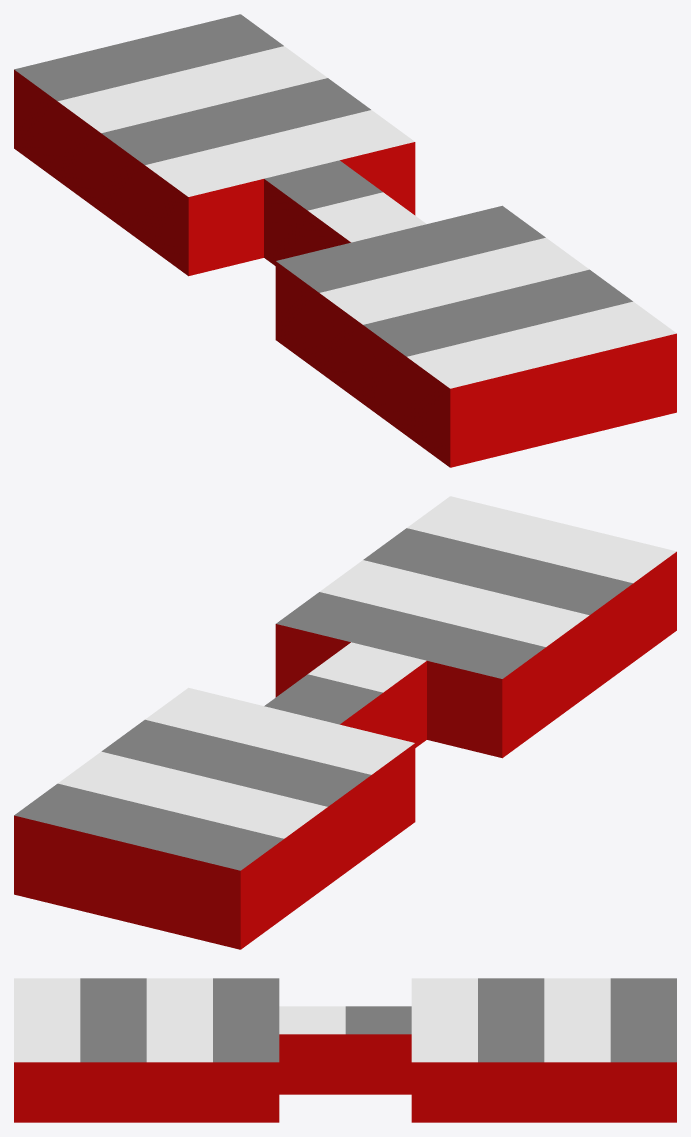
The model's file is Track_Hole_LR.fbx.
3 views of the same model, one above another, from view 1: azimuth 30°, elevation 25°; view 2: azimuth 150°, elevation 25°; view 3: azimuth 270°, elevation 25° (orthographic). The views are drawn at different scales.
Visible parts, largest first — view 1: Track_Hole_LR; view 2: Track_Hole_LR; view 3: Track_Hole_LR.
Part boxes in pixels (x1,y1,x2,y2): Track_Hole_LR: (14, 14, 676, 467); Track_Hole_LR: (14, 496, 676, 949); Track_Hole_LR: (14, 978, 676, 1122).
Size of the model in its own units: 900 by 300 by 3000.
